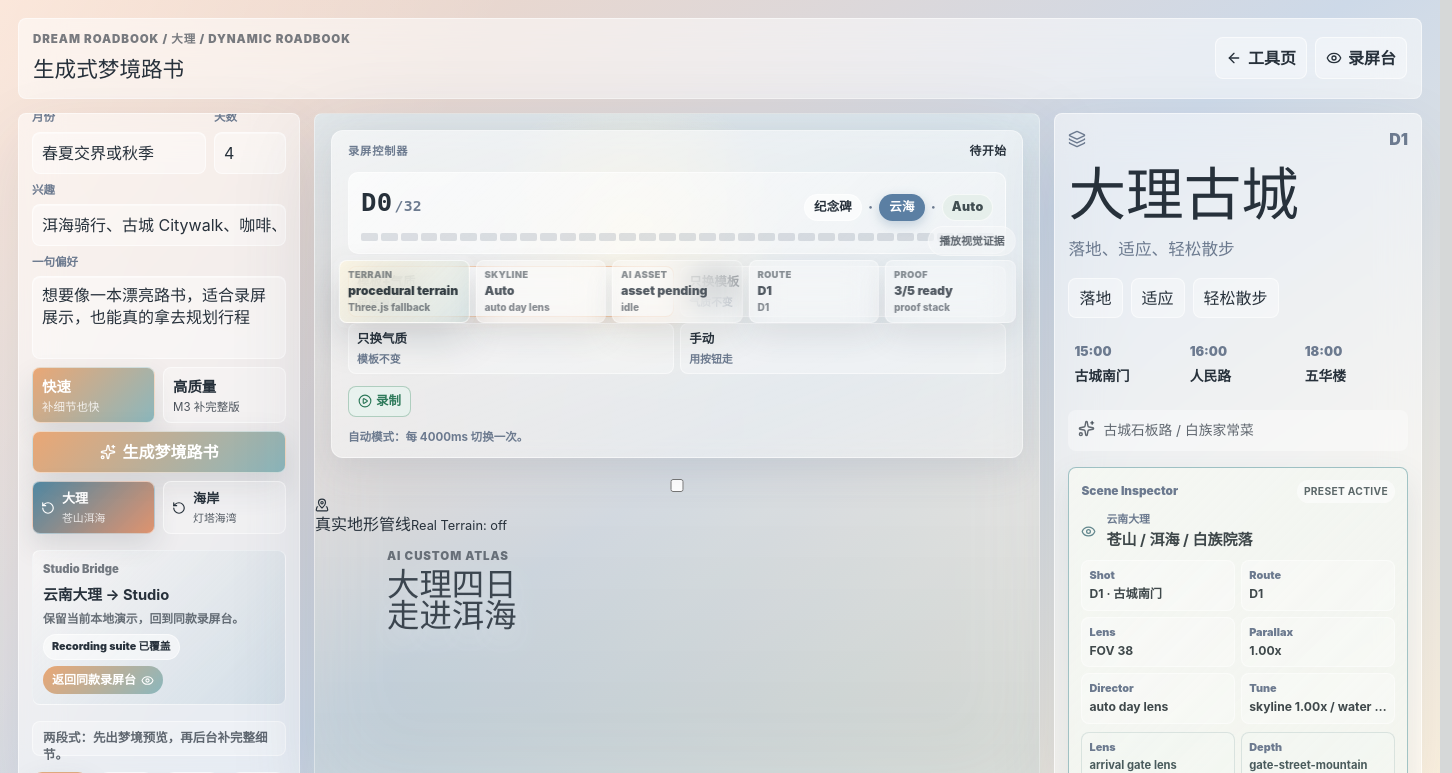
Test case: DreamRoadbook a11y polish › sends the active template render strategy to the two-stage generation API
(page scrolled)
Click the button "生成梦境路书" at (159, 452), box [32,431,286,473]
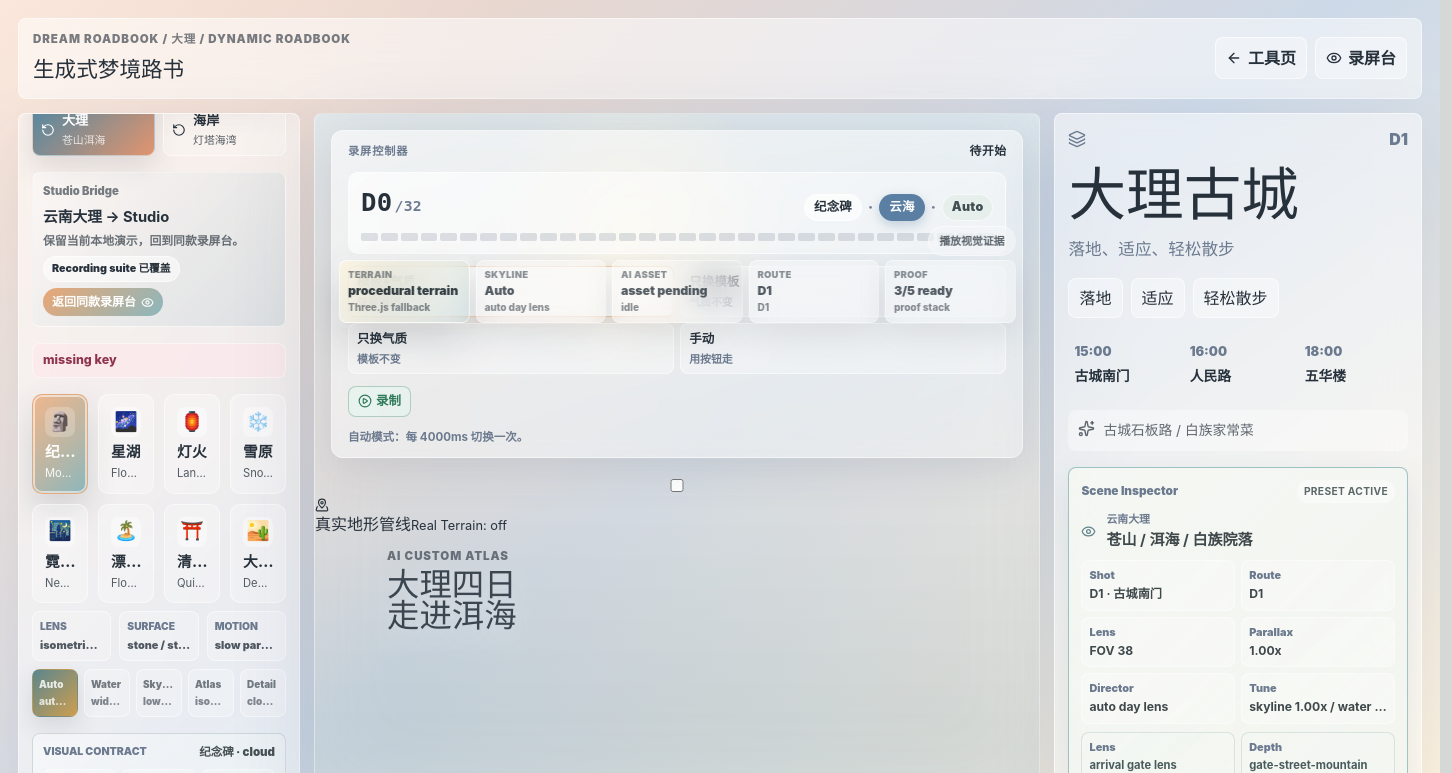
Expected: the text "纪念碑" below "missing key" is shown, [45,443,90,461]
